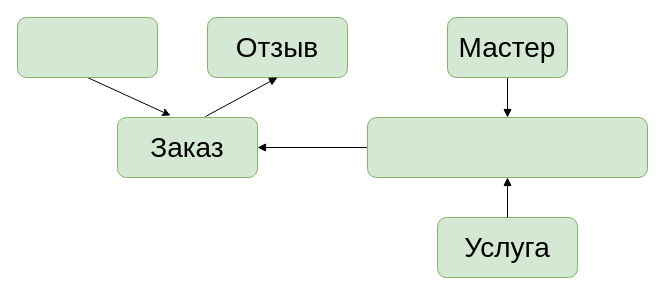
Some shapes in this 665 by 295 pixel diagram are drawn without their labels. Each missing label, with the box of its shape:
Клиент: (16, 16, 158, 78)
Мастер - Услуга: (366, 116, 648, 178)
